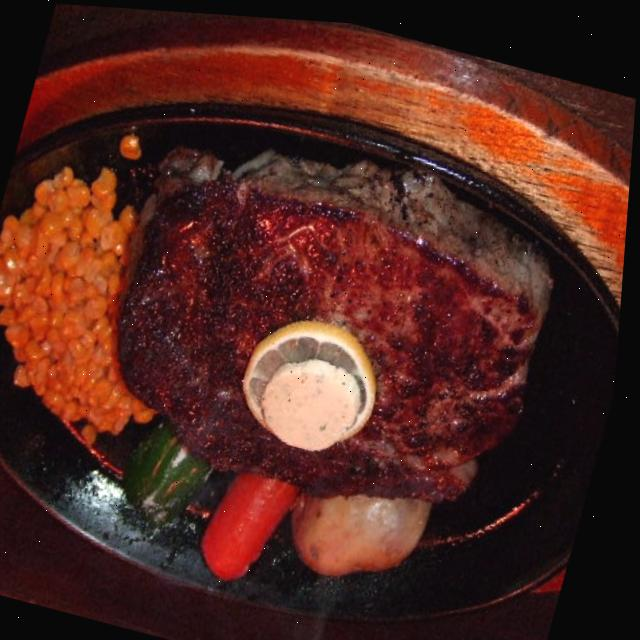牛肉菜式: (79, 94, 586, 545)
